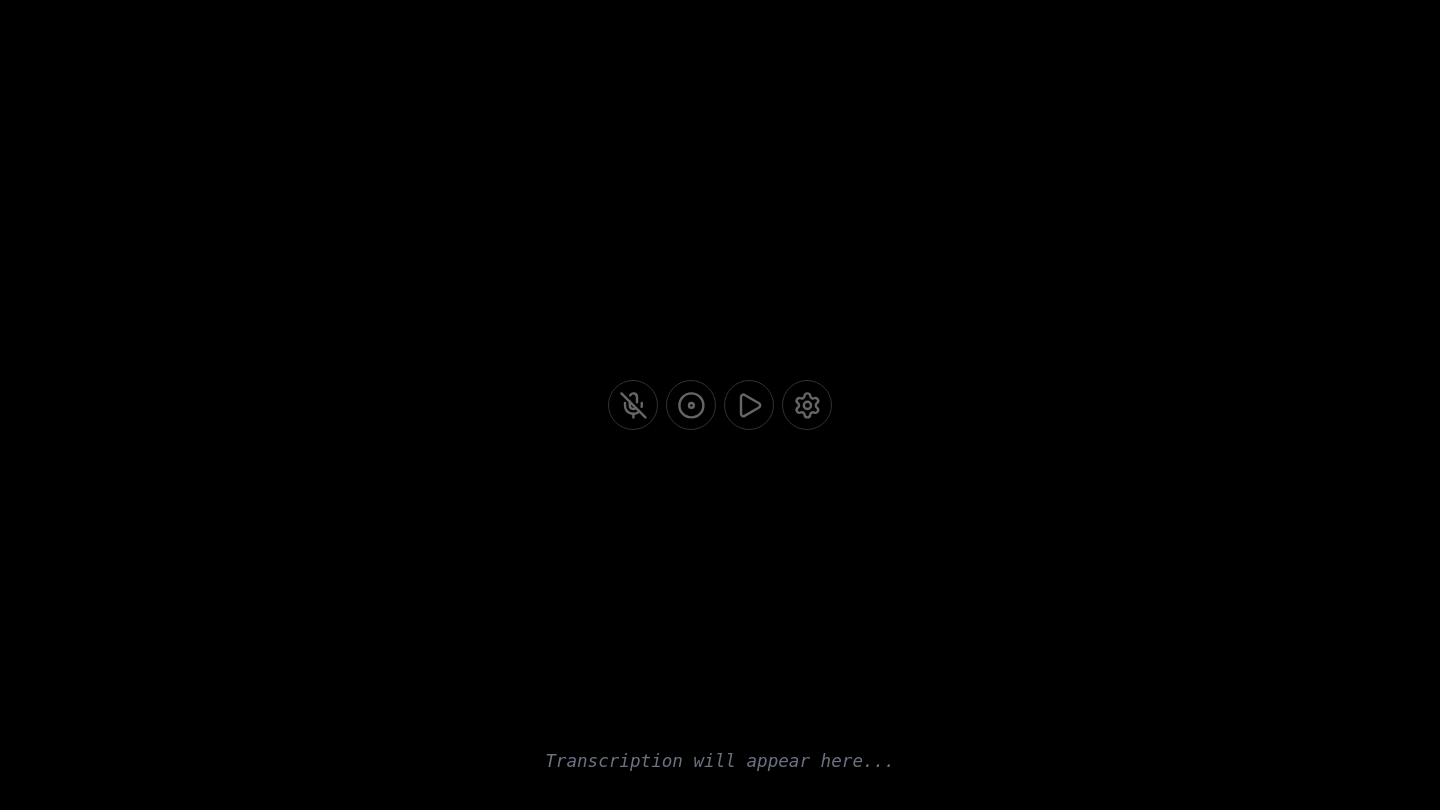
it: Settings Integration Tests › closes settings modal when X button is clicked
Open settings
Step 1. Click the button titled "Settings" → (807, 405), box [782, 380, 832, 430]
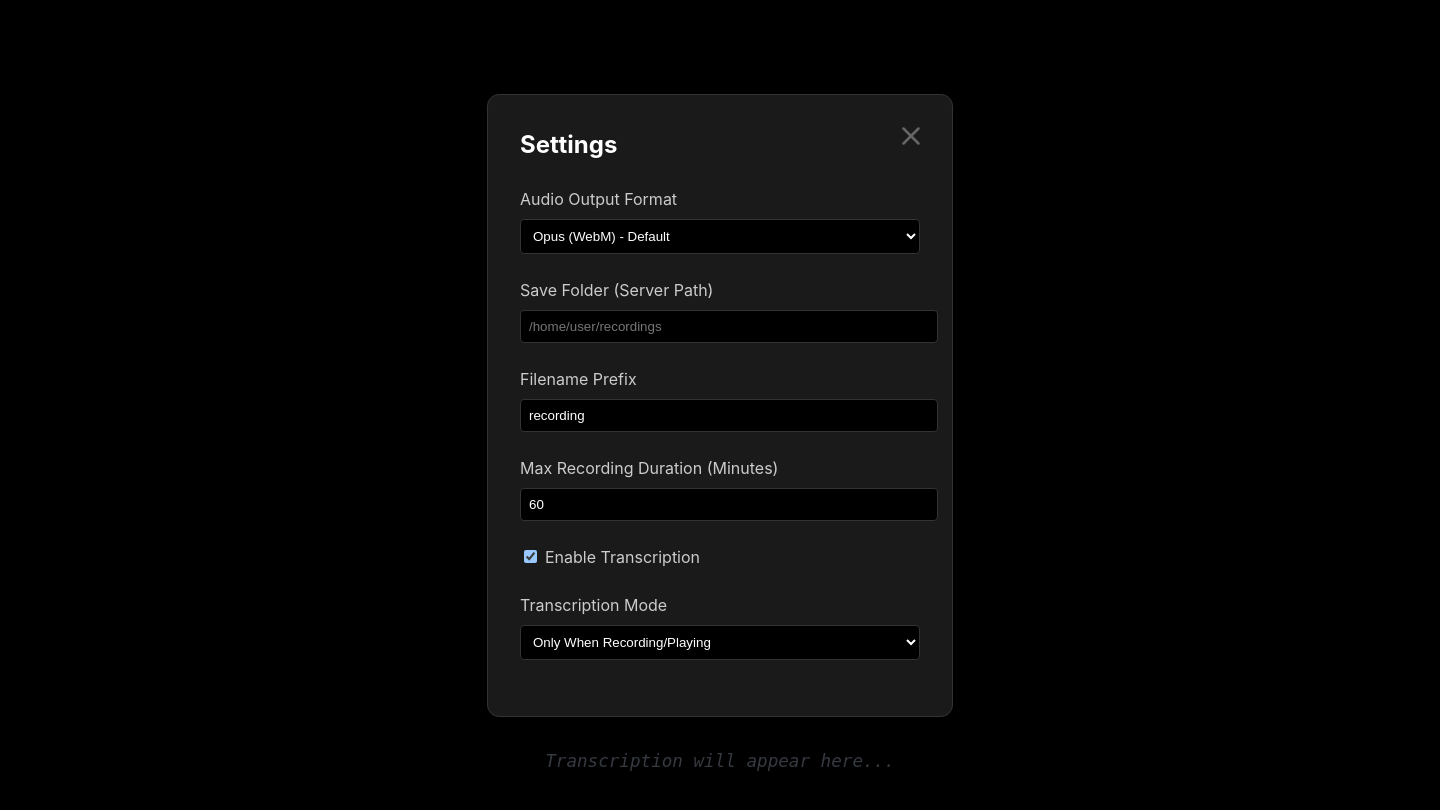
Now the heading "Settings" is shown, box [520, 130, 617, 158]
Step 2. Click the button → (911, 136), box [886, 110, 936, 160]
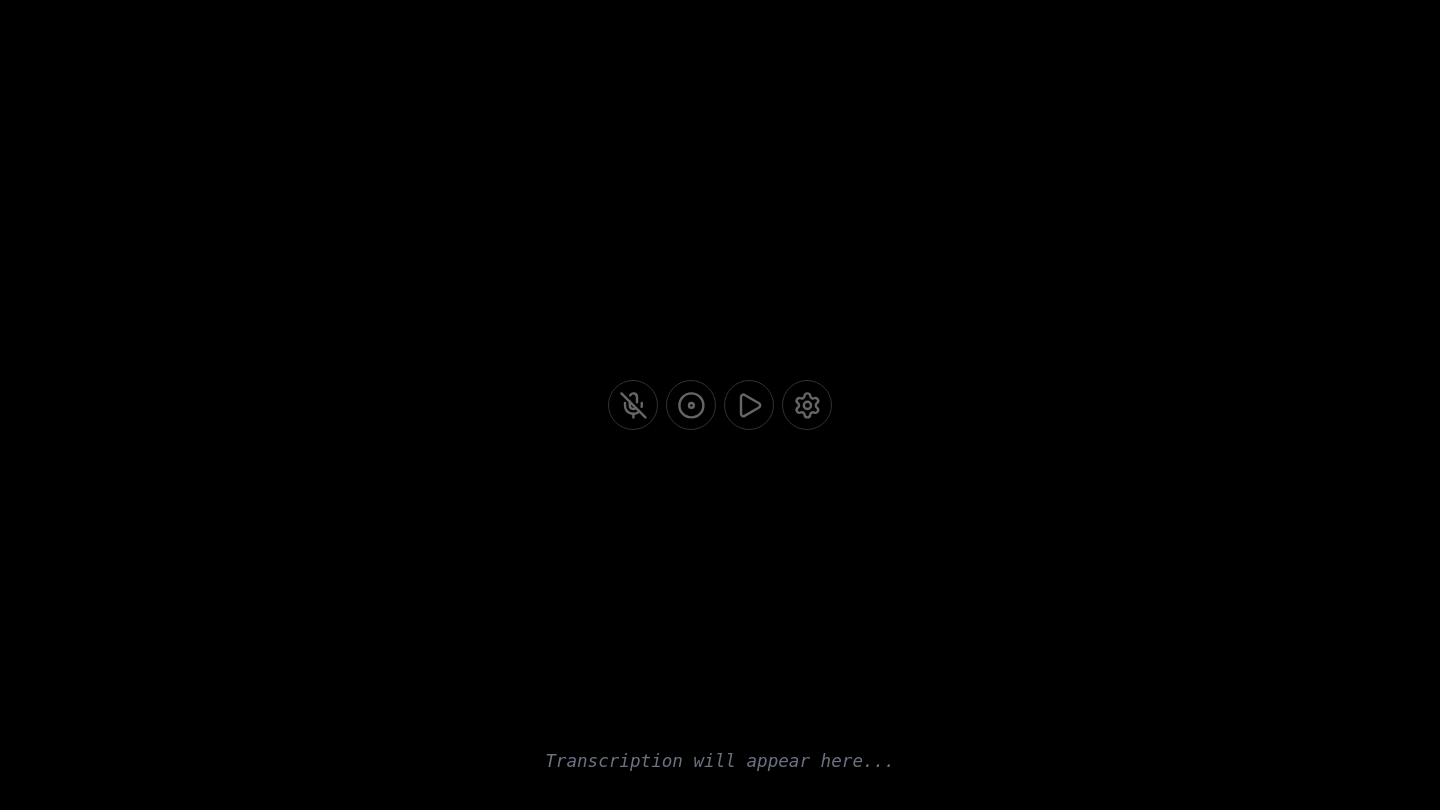
Now the heading "Settings" is gone
